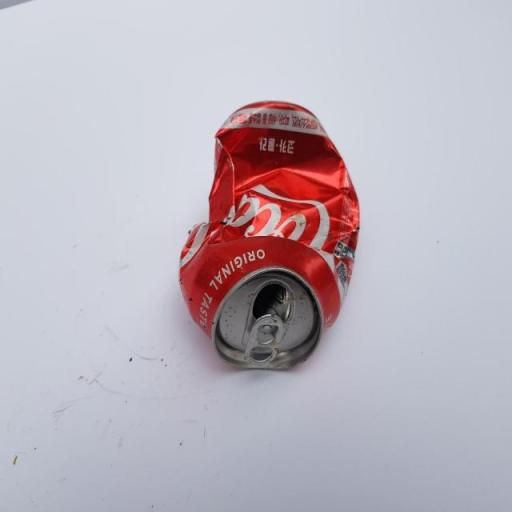metal: (114, 72, 435, 382)
